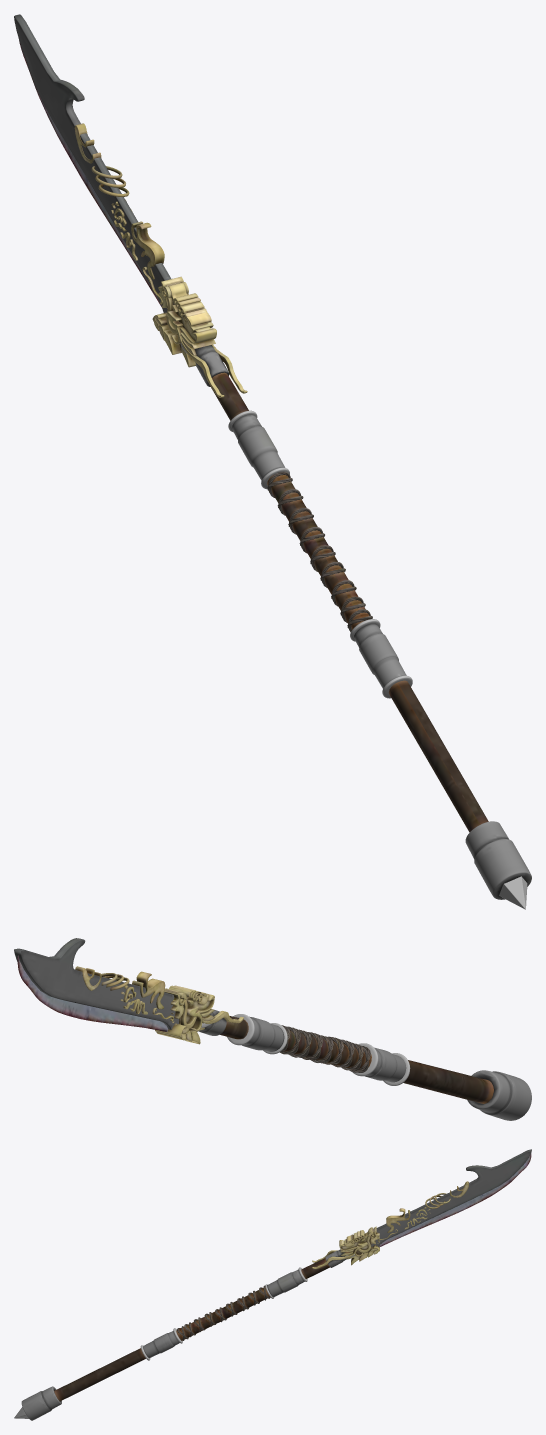
File: vel.glb
3 renders of one model, top to bottom at view 1: azimuth 30°, elevation 25°; view 2: azimuth 150°, elevation 25°; view 3: azimuth 270°, elevation 25°, orthographic. The views are drawn at different scales.
Parts seen in each view (by area): view 1: group53 (×5); view 2: group53 (×16), polySurface122; view 3: group53 (×7).
Part boxes in pixels (<box>): group53 (×5): <box>14,14,531,899</box>; group53 (×16): <box>14,938,531,1120</box>; polySurface122: <box>187,1005,202,1031</box>; group53 (×7): <box>21,1149,531,1420</box>.
Bounding box in the file's own units: 0.8934 × 11.7 × 20.39.
8 materials, 7 textured.
